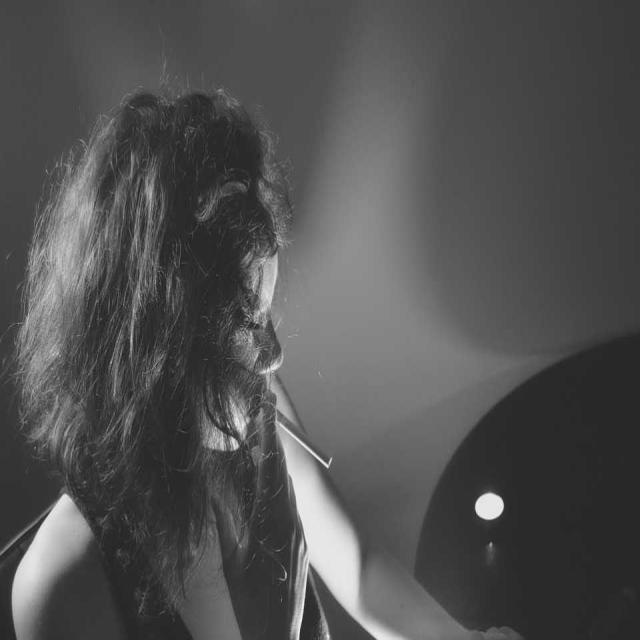Smooking: (265, 397, 340, 498)
